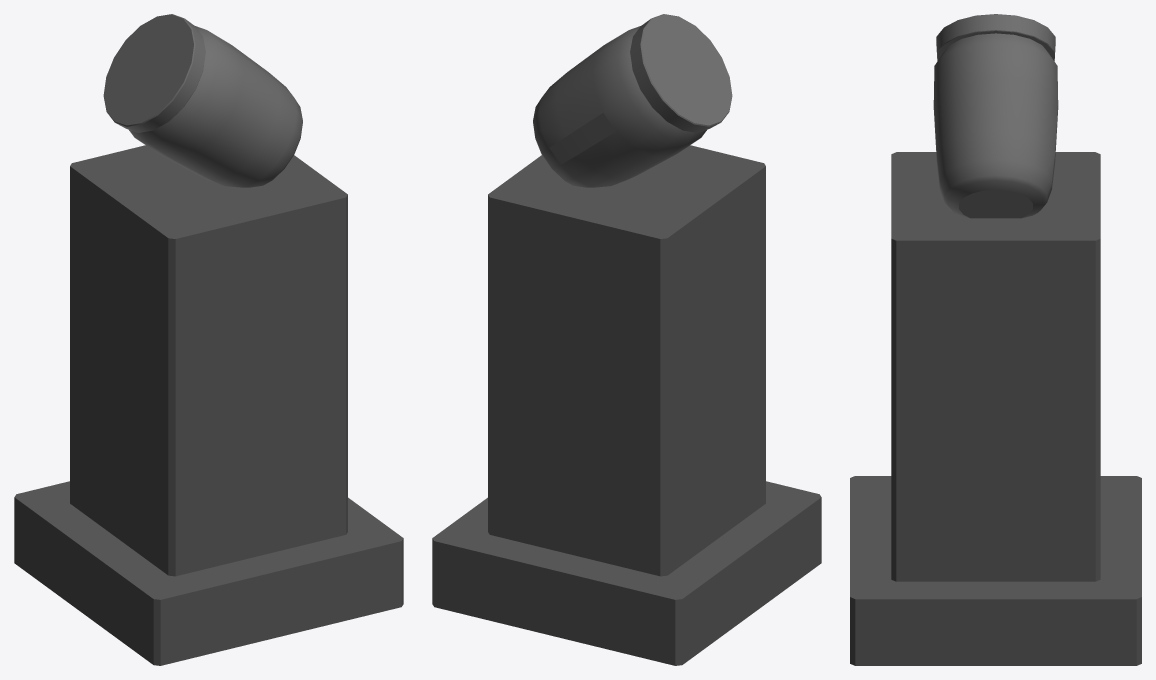
Rendered from Statue.FBX.
The picture shows the model from 3 angles, left to right: view 1: azimuth 30°, elevation 25°; view 2: azimuth 150°, elevation 25°; view 3: azimuth 270°, elevation 25°; orthographic projection.
Parts seen in each view (by area): view 1: Statue; view 2: Statue; view 3: Statue.
Part boxes in pixels (box(x1,y1,x2,y2)): Statue: box(14, 14, 403, 665); Statue: box(432, 14, 821, 665); Statue: box(850, 14, 1141, 665).
Bounding box in the file's own units: 87.27 × 191 × 87.27.
